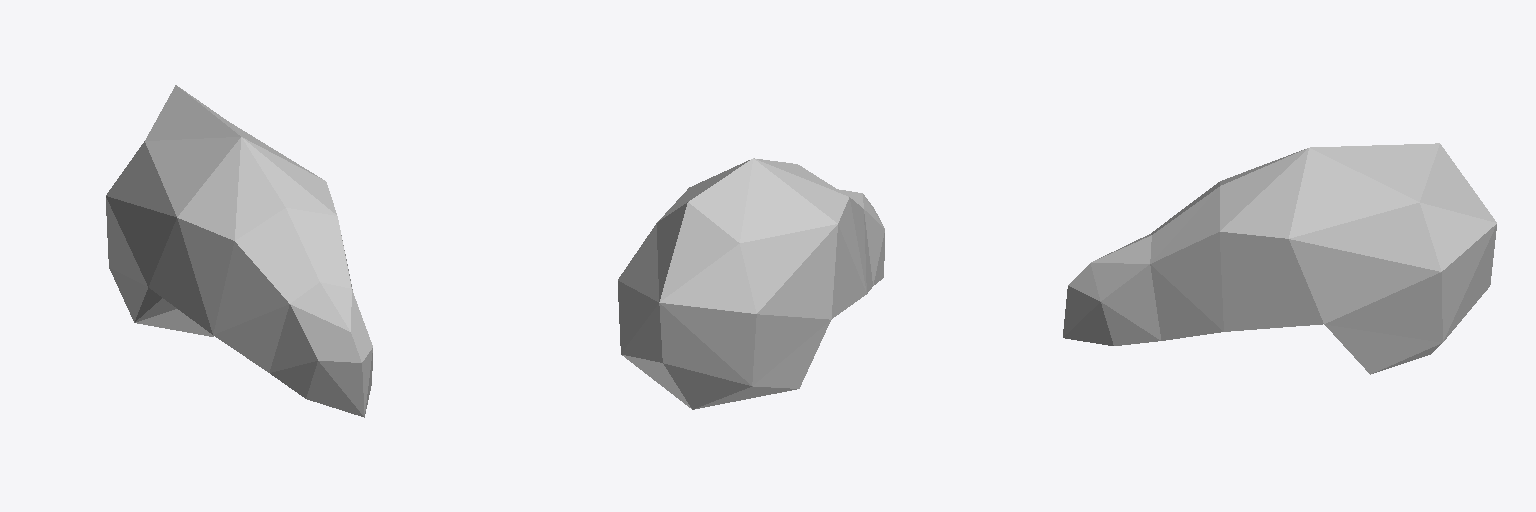
The model's file is Cabeza.obj.
The picture shows the model from 3 angles: view 1: azimuth 30°, elevation 25°; view 2: azimuth 150°, elevation 25°; view 3: azimuth 270°, elevation 25°; orthographic projection.
Visible parts, largest first — view 1: Cabeza_body.001_Plane.007; view 2: Cabeza_body.001_Plane.007; view 3: Cabeza_body.001_Plane.007.
Boxes of the visible parts, x1,y1,x2,y2 form: Cabeza_body.001_Plane.007: [106, 85, 372, 417]; Cabeza_body.001_Plane.007: [618, 158, 884, 409]; Cabeza_body.001_Plane.007: [1063, 143, 1496, 374].
Bounding box in the file's own units: 0.268 × 0.3373 × 0.5898.